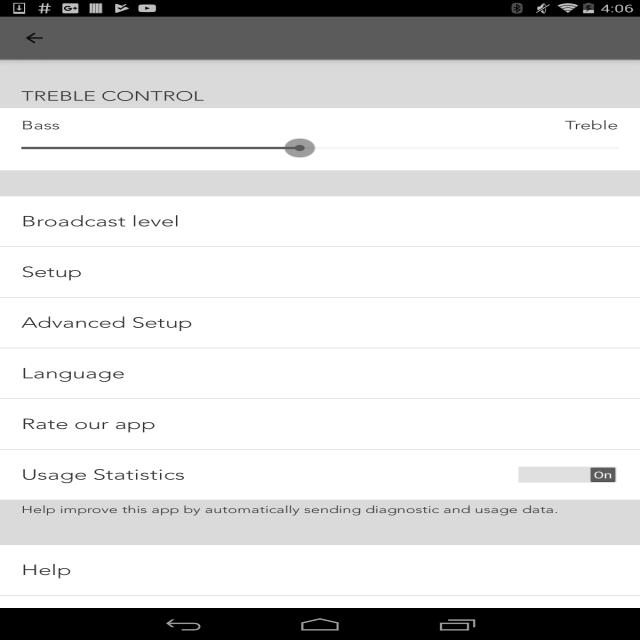ImageButton: (15, 28, 69, 50)
SeekBar: (15, 134, 630, 159)
Switch: (506, 459, 625, 486)
TextView: (16, 499, 570, 521), (10, 205, 181, 232), (19, 461, 196, 485), (13, 84, 207, 105), (17, 312, 186, 333), (13, 360, 142, 386)
